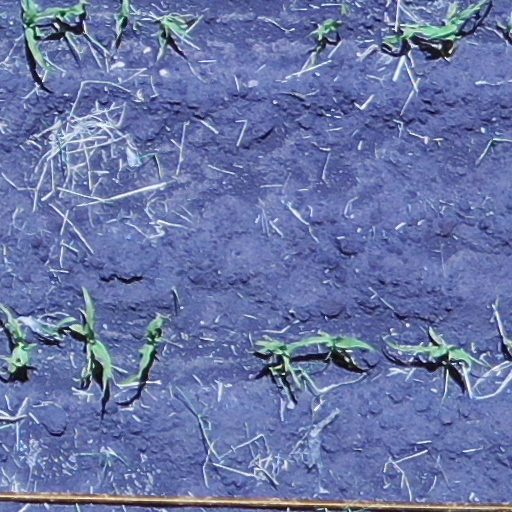planta: (70, 287, 112, 386), (387, 329, 477, 365), (118, 316, 163, 387), (254, 340, 303, 390), (7, 316, 35, 375), (285, 335, 371, 352), (28, 3, 86, 20), (158, 16, 190, 38)
